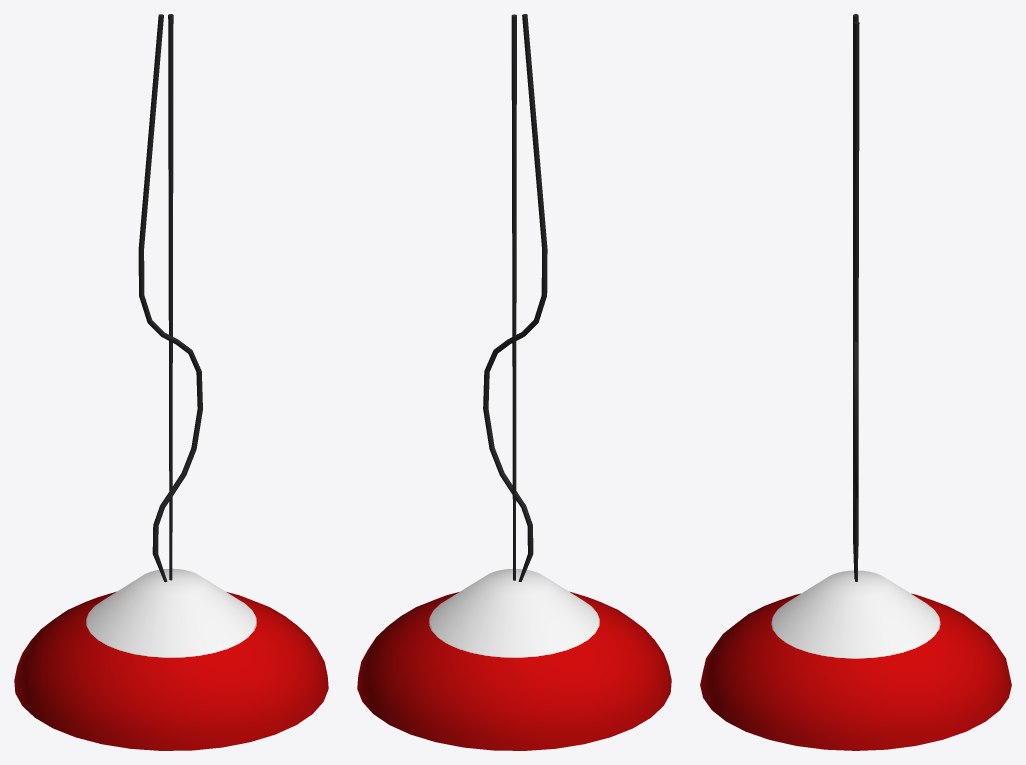
Rendered from Ceiling lamp.FBX.
3 views of the same model, side by side, from view 1: azimuth 30°, elevation 25°; view 2: azimuth 150°, elevation 25°; view 3: azimuth 270°, elevation 25° (orthographic).
Visible parts, largest first — view 1: Ceiling lamp; view 2: Ceiling lamp; view 3: Ceiling lamp.
Part boxes in pixels (bbox=[...]): Ceiling lamp: bbox=[14, 14, 328, 750]; Ceiling lamp: bbox=[357, 14, 671, 750]; Ceiling lamp: bbox=[700, 14, 1011, 750].
Size of the model in its own units: 37.04 by 87.22 by 37.04.
2 materials, 1 textured.
